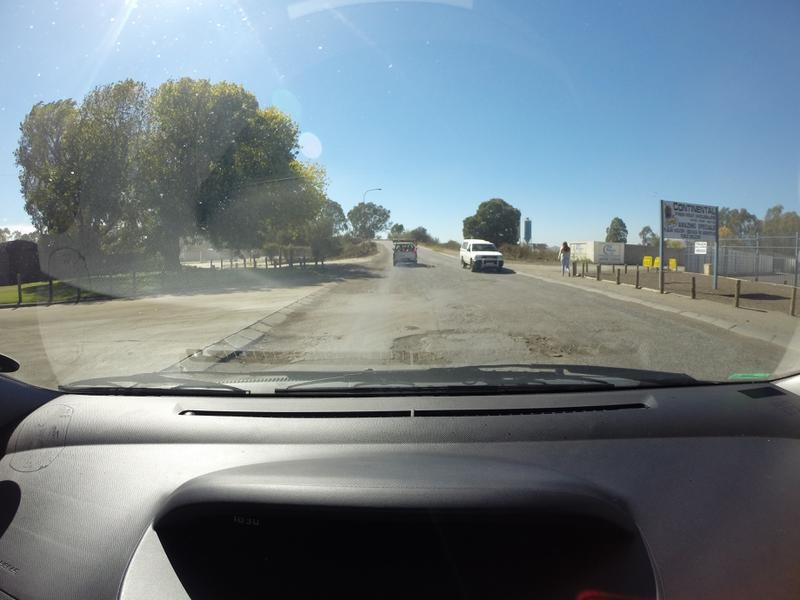pothole: (518, 320, 586, 365), (383, 323, 453, 366), (240, 336, 315, 375)
